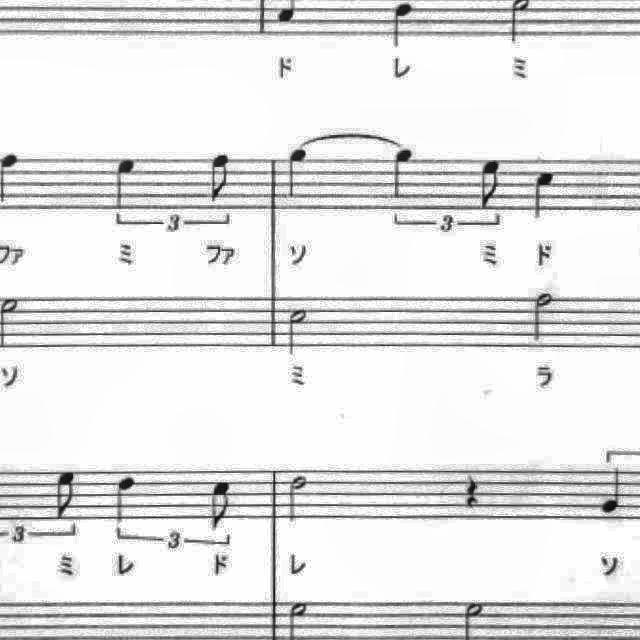Eighth-note: (201, 146, 239, 210), (203, 473, 239, 535), (472, 154, 508, 214), (50, 464, 84, 524)
Half-note: (526, 286, 562, 348), (280, 300, 314, 360), (280, 468, 312, 528)
Quarter-note: (107, 151, 145, 215), (281, 144, 319, 206), (524, 162, 560, 225), (386, 143, 422, 205), (106, 468, 142, 528), (594, 464, 632, 520), (384, 0, 421, 52)
Quarter-rest: (460, 466, 492, 514)
